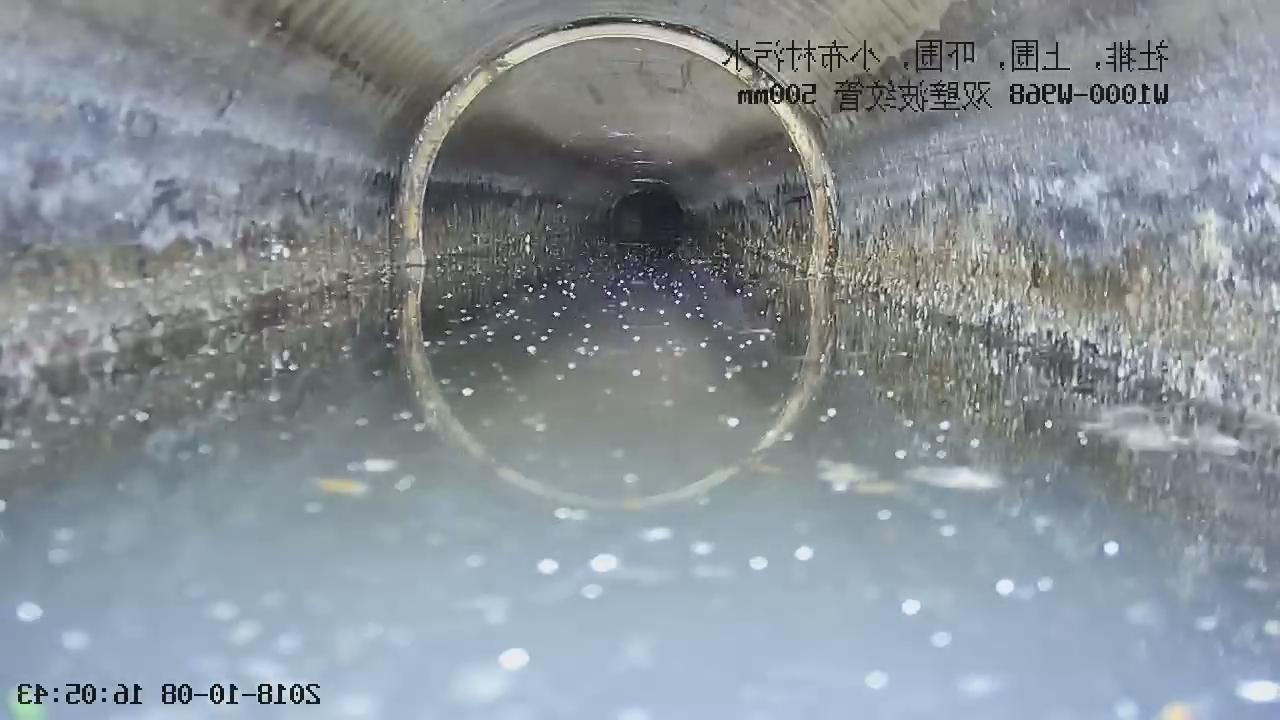CKTJ: (390, 11, 851, 283)
